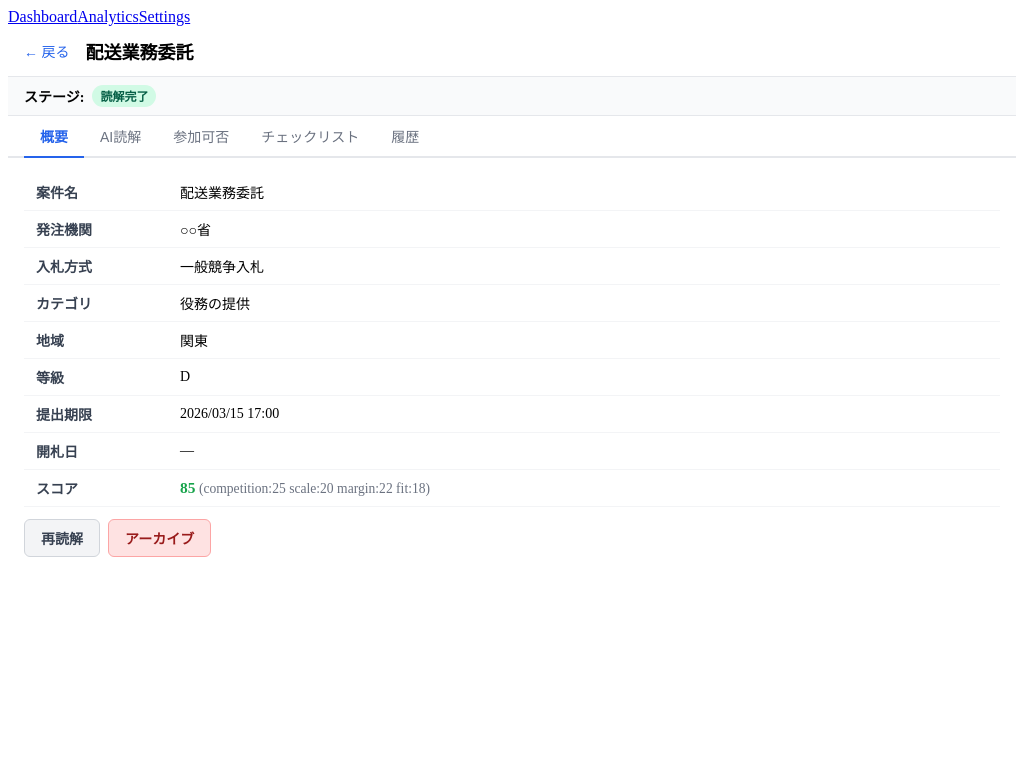
ReadingTab — ConfidenceBadge › shows confidence score as percentage
Click the button with test id "tab-reading" at (121, 137), box [84,116,157,158]
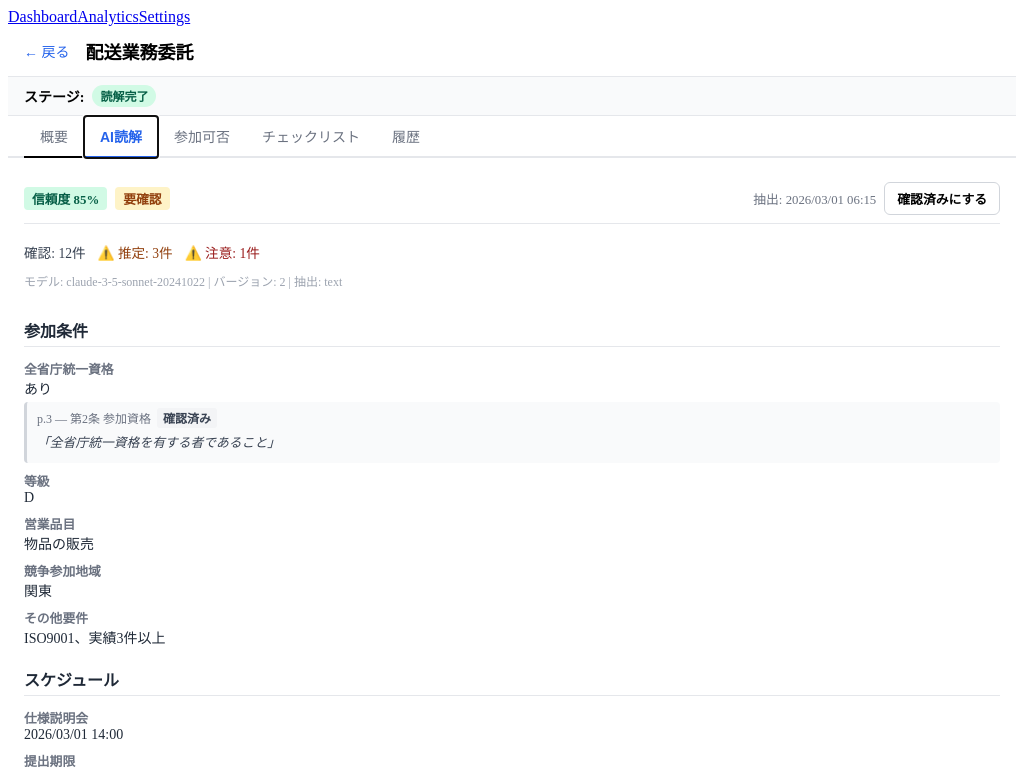
Expected: the text with test id "confidence-badge" reads "信頼度 85%", [24,187,107,210]
